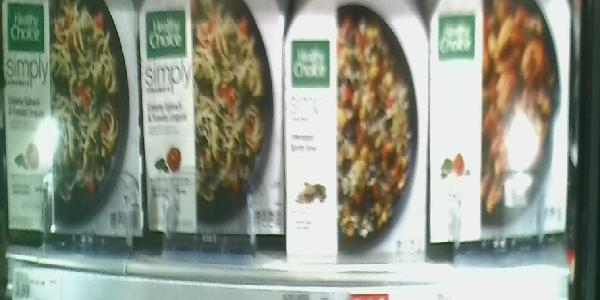pizza1: (285, 3, 426, 262), (429, 2, 571, 253), (141, 2, 285, 249), (2, 2, 142, 246)
